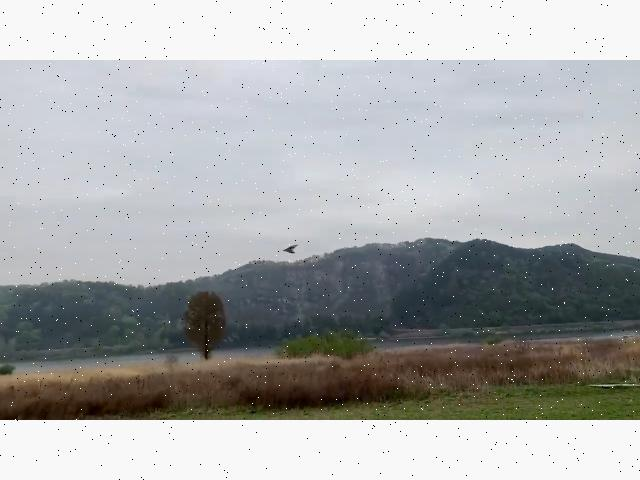Anti-Drone: (282, 244, 298, 253)
